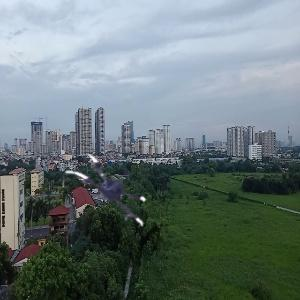drone: (58, 150, 152, 244)
